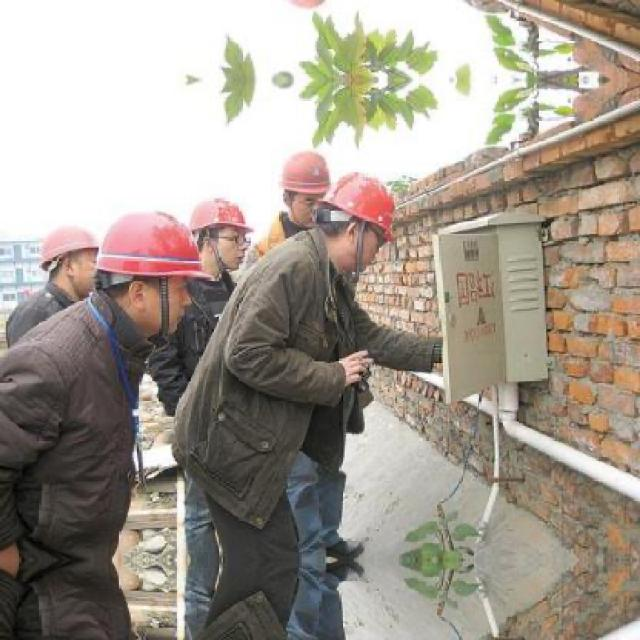con casco: (100, 195, 201, 343), (297, 166, 405, 269), (241, 139, 351, 238), (176, 201, 276, 274)
